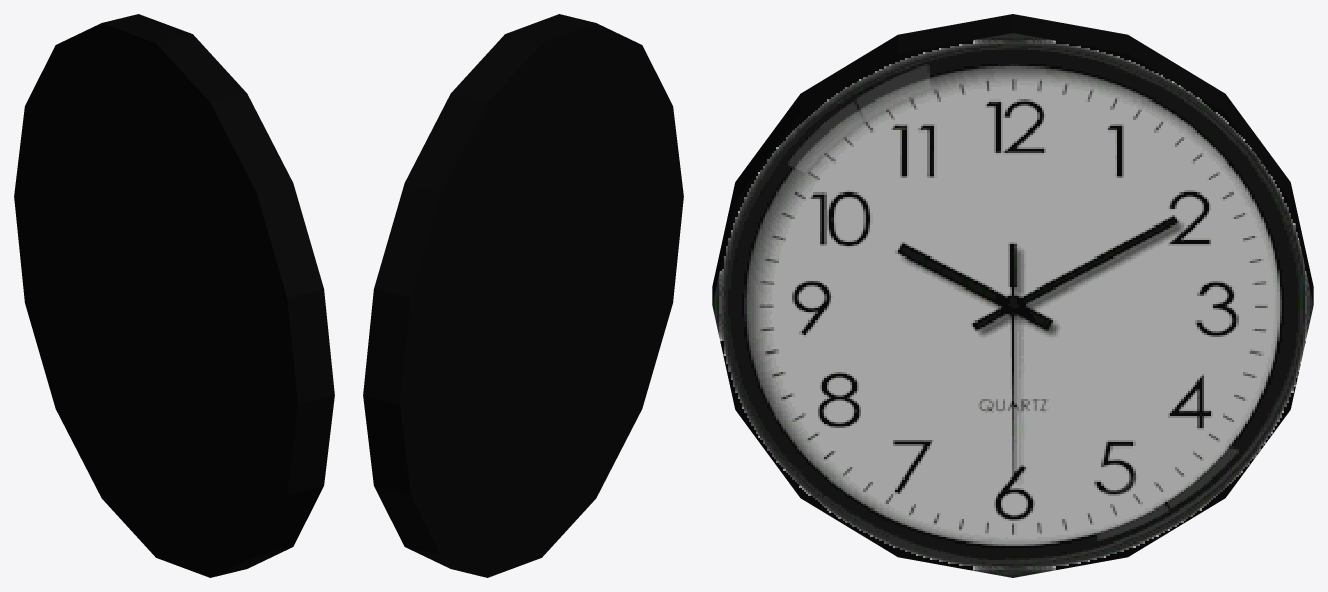
The model's file is clock.glb.
The picture shows the model from 3 angles, left to right: view 1: azimuth 30°, elevation 25°; view 2: azimuth 150°, elevation 25°; view 3: azimuth 270°, elevation 25°; orthographic projection. The views are drawn at different scales.
Visible parts, largest first — view 1: Clock; view 2: Clock; view 3: Clock.
Part boxes in pixels (<box>): Clock: <box>14,14,334,577</box>; Clock: <box>363,14,683,577</box>; Clock: <box>712,14,1313,577</box>.
Bounding box in the file's own units: 0.03 × 0.4 × 0.4.
Materials: 1 (1 with a texture image).
